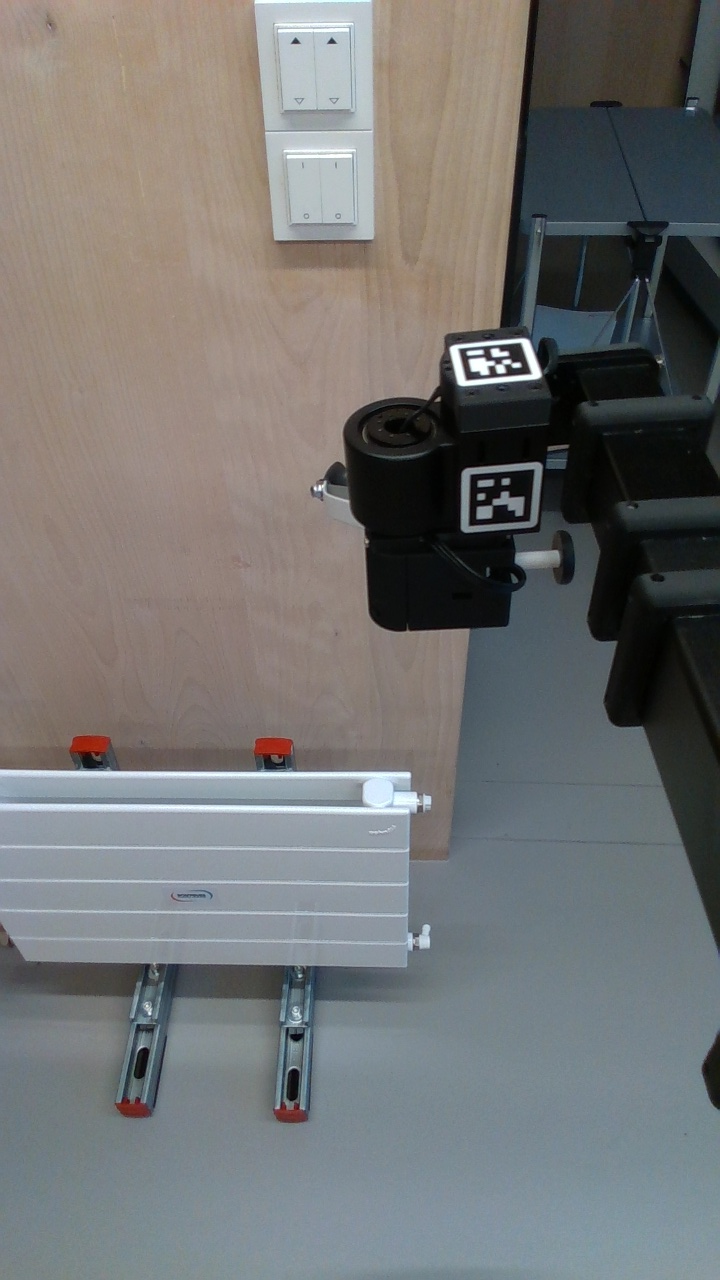Light_Switch: (261, 1, 375, 124), (269, 129, 378, 238)
Radiator: (1, 761, 427, 969)
